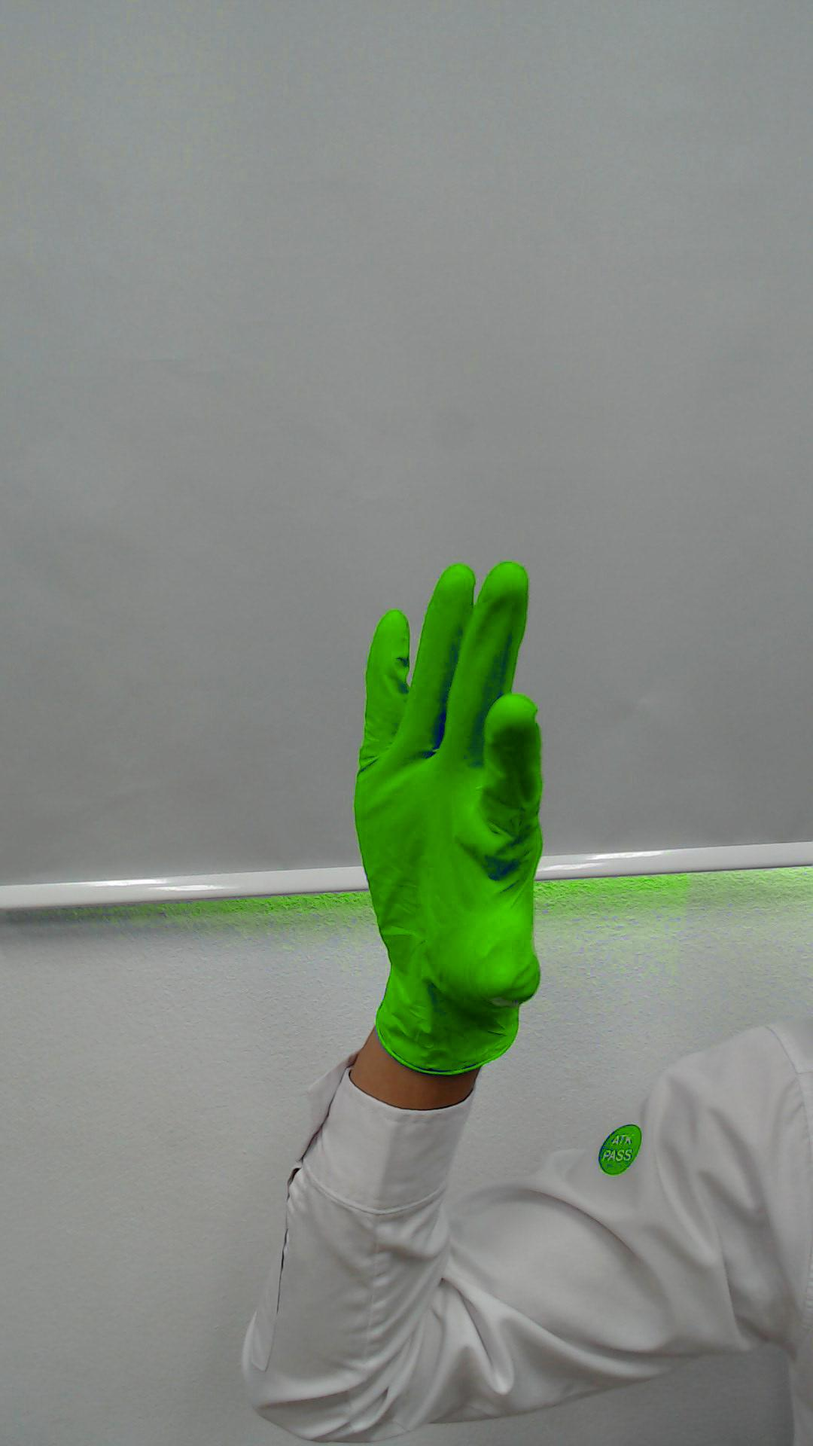gloves: (344, 550, 558, 1028)
